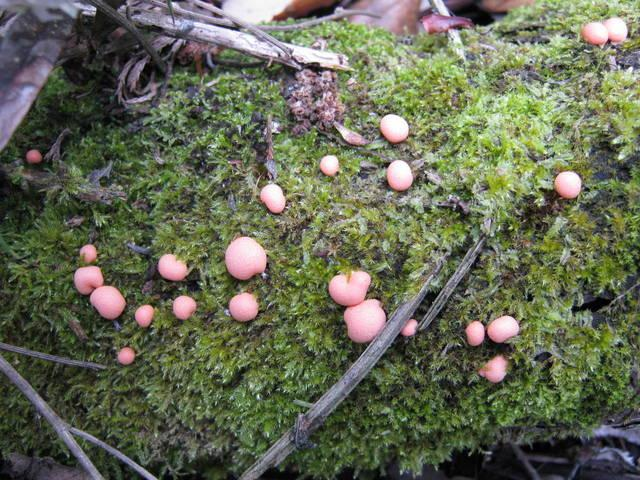poisonous_mushroom: (223, 235, 267, 280), (343, 298, 386, 343), (327, 268, 371, 306), (89, 284, 126, 320), (228, 291, 259, 322), (486, 314, 519, 343), (379, 112, 409, 143), (156, 252, 188, 281), (385, 158, 413, 191), (553, 170, 582, 199), (259, 182, 286, 213), (581, 21, 608, 46), (171, 294, 196, 320), (318, 153, 339, 176)
